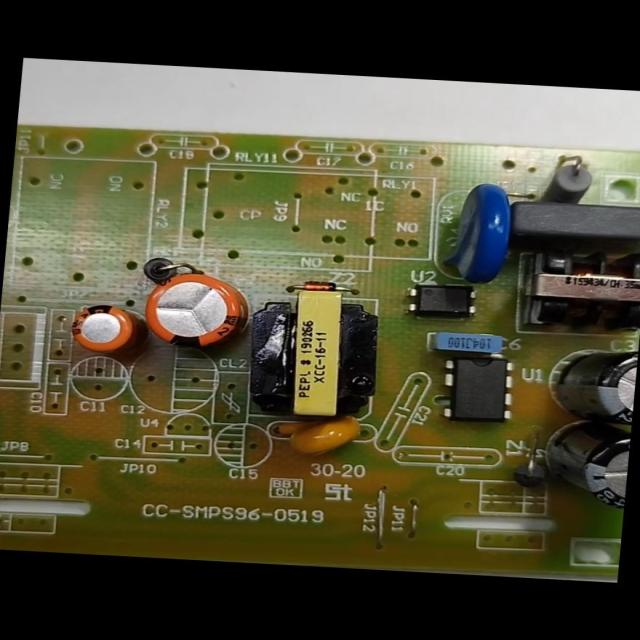Cap1: (139, 264, 257, 358)
Cap2: (62, 297, 156, 368)
Cap3: (534, 335, 638, 433)
Cap4: (522, 414, 632, 516)
MOSFET: (432, 348, 528, 429)
Mov: (428, 174, 522, 300)
Resistor: (532, 153, 603, 211)
Transformer: (243, 278, 387, 426), (513, 239, 639, 342)
